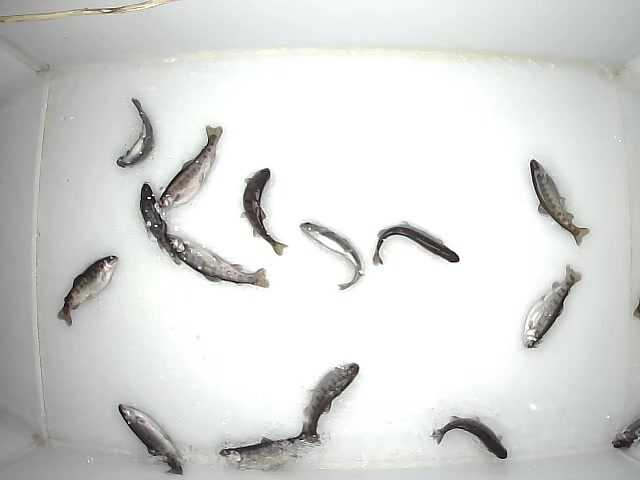fish: (155, 122, 225, 211), (164, 234, 271, 289), (528, 157, 591, 248), (522, 262, 583, 352), (298, 360, 359, 444), (54, 250, 120, 327), (115, 404, 186, 475), (299, 219, 365, 292), (238, 167, 288, 256), (369, 220, 461, 268), (217, 430, 322, 469), (430, 413, 510, 462), (139, 183, 179, 268), (116, 96, 160, 169)
